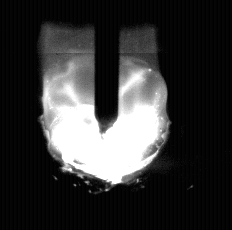arame: (96, 0, 120, 140)
poca: (44, 0, 169, 230)
